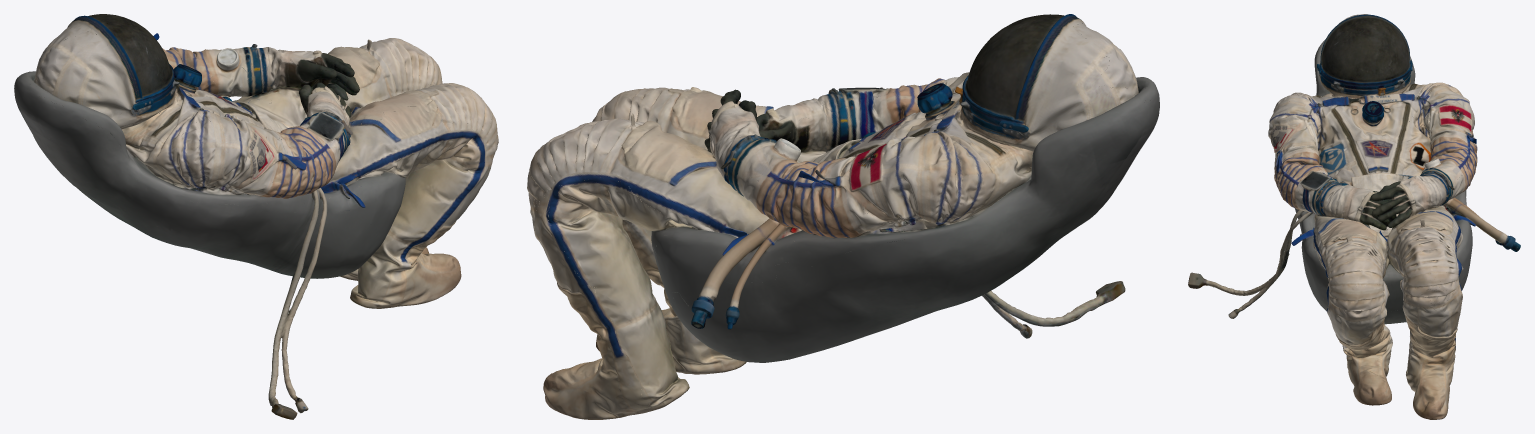
The model's file is astronaut-compressed.glb.
The picture shows the model from 3 angles, left to right: view 1: azimuth 30°, elevation 25°; view 2: azimuth 150°, elevation 25°; view 3: azimuth 270°, elevation 25°; orthographic projection. The views are drawn at different scales.
Visible parts, largest first — view 1: Object_2, Object_3; view 2: Object_3, Object_2; view 3: Object_3, Object_2.
Part boxes in pixels (<box>): Object_2: <box>26,30,498,419</box>; Object_3: <box>14,14,492,280</box>; Object_3: <box>527,14,1159,419</box>; Object_2: <box>527,22,1155,407</box>; Object_3: <box>1270,14,1474,419</box>; Object_2: <box>1188,14,1520,405</box>.
Size of the model in its own units: 1.69 by 1.28 by 1.42.
Materials: 1 (1 with a texture image).
